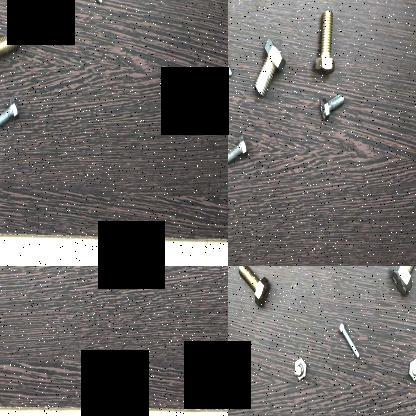Bolts: (247, 34, 286, 102), (310, 7, 338, 78), (0, 21, 29, 77), (236, 266, 272, 308), (315, 87, 348, 126), (338, 318, 364, 364), (385, 266, 416, 300), (0, 92, 24, 130), (228, 133, 249, 173), (292, 354, 310, 380), (403, 351, 416, 386), (228, 40, 234, 78)
